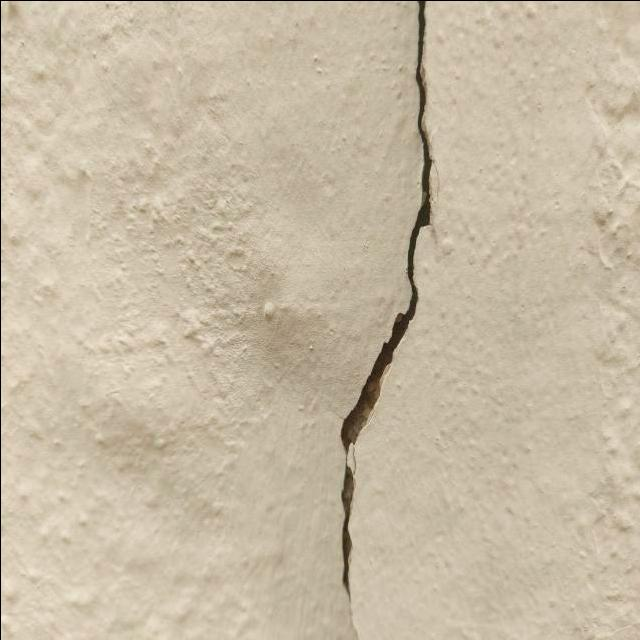SurfaceCrack: (292, 0, 477, 640)
